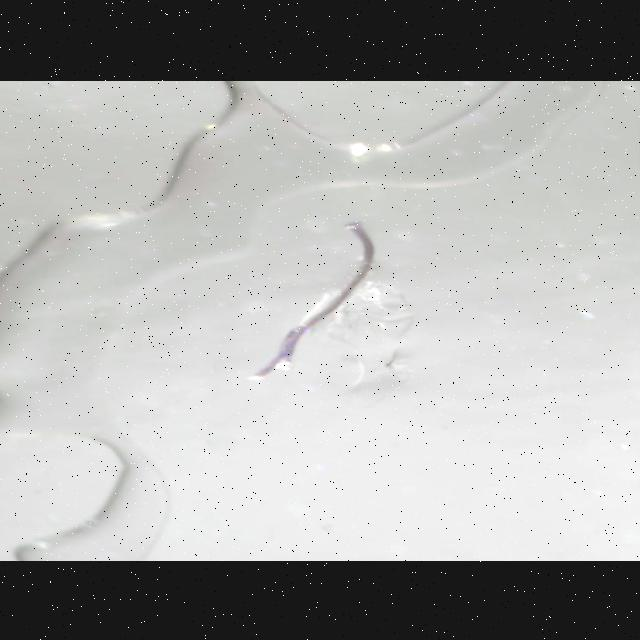Fibre: (238, 212, 412, 382)
